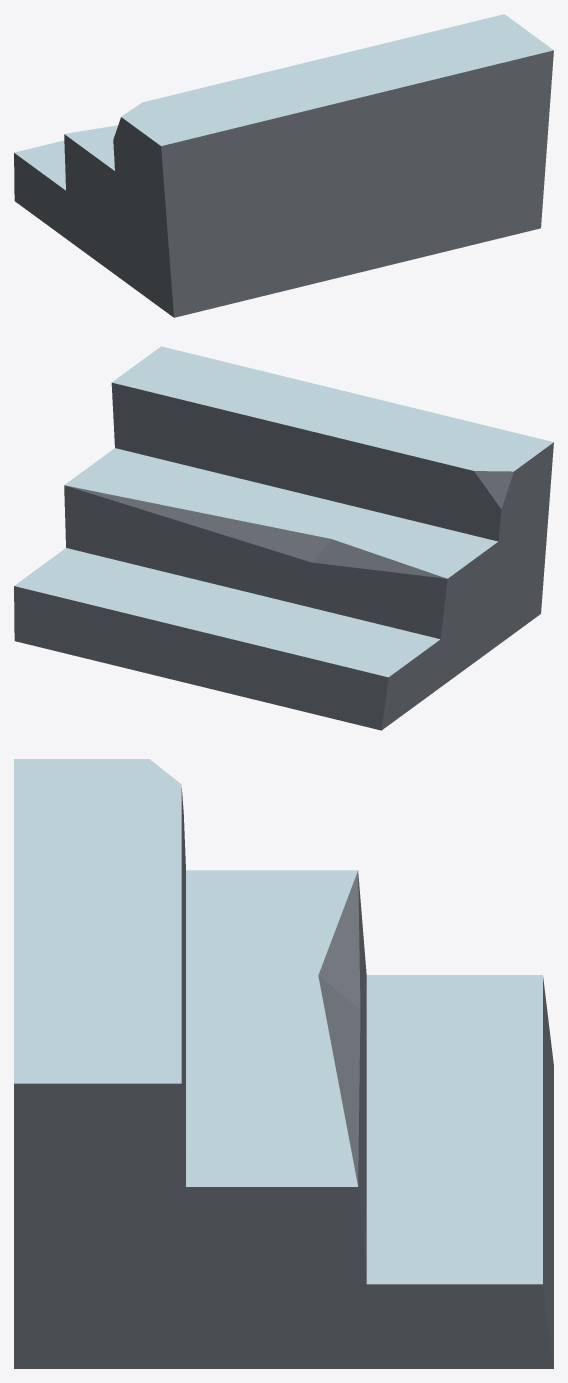
Rendered from SM_Prop_Stairs_Stone_01_Snow.fbx.
3 views of the same model, one above another, from view 1: azimuth 30°, elevation 25°; view 2: azimuth 150°, elevation 25°; view 3: azimuth 270°, elevation 25° (orthographic). The views are drawn at different scales.
Parts seen in each view (by area): view 1: SM_Prop_Stairs_Stone_01_Snow; view 2: SM_Prop_Stairs_Stone_01_Snow; view 3: SM_Prop_Stairs_Stone_01_Snow.
Boxes of the visible parts, <box> form: SM_Prop_Stairs_Stone_01_Snow: <box>14,14,553,317</box>; SM_Prop_Stairs_Stone_01_Snow: <box>14,346,553,730</box>; SM_Prop_Stairs_Stone_01_Snow: <box>14,759,553,1368</box>.
Size of the model in its own units: 52.42 by 22.29 by 36.87.
1 material, 1 textured.
